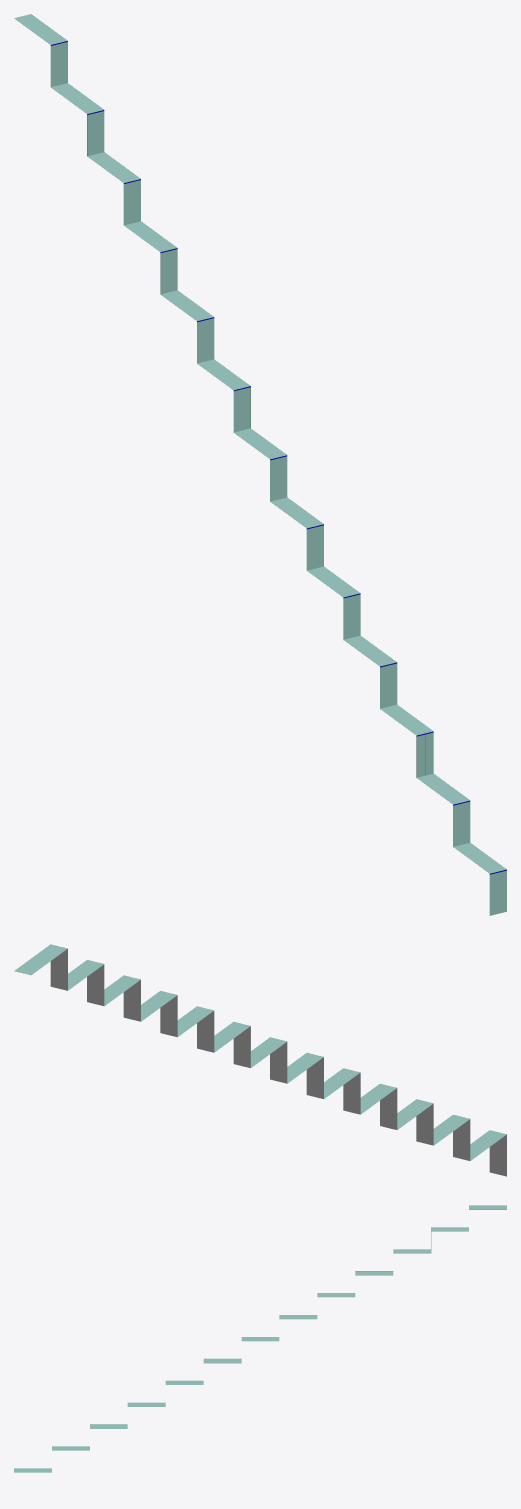
File: escalera.obj
3 views of the same model, one above another, from view 1: azimuth 30°, elevation 25°; view 2: azimuth 150°, elevation 25°; view 3: azimuth 270°, elevation 25° (orthographic). The views are drawn at different scales.
Parts seen in each view (by area): view 1: Stairs; view 2: Stairs; view 3: Stairs.
Boxes of the visible parts, x1,y1,x2,y2 form: Stairs: [14, 14, 506, 915]; Stairs: [14, 944, 506, 1176]; Stairs: [14, 1205, 506, 1472].
Size of the model in its own units: 0.3 by 9.11 by 14.3.
